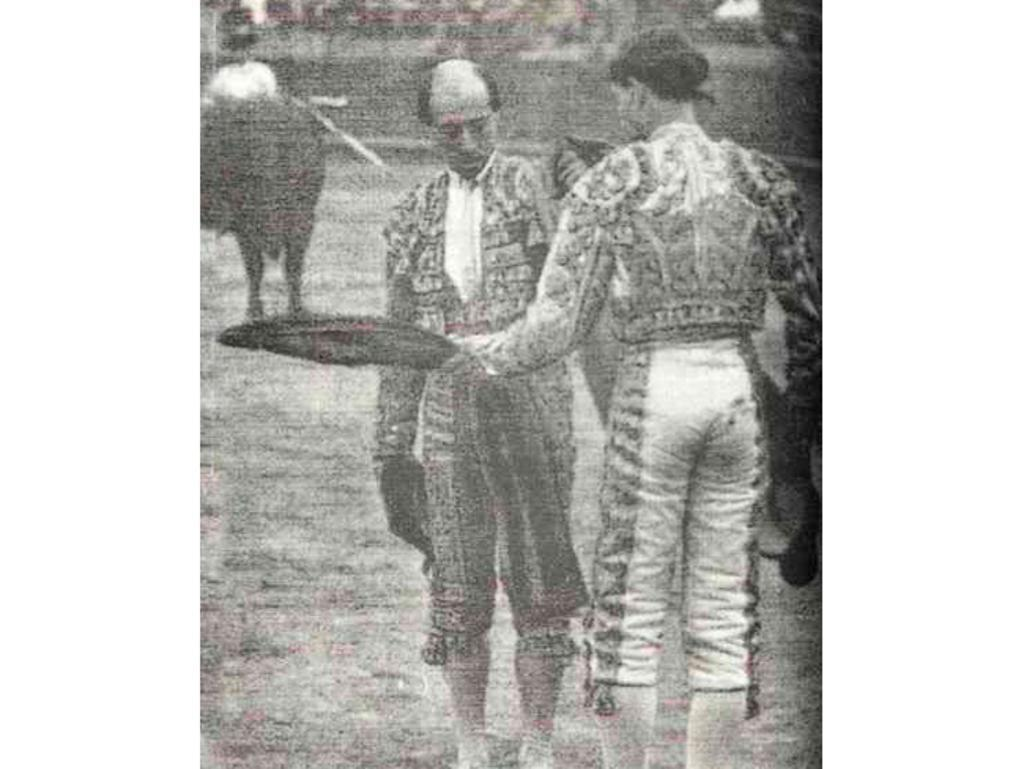face: (439, 91, 499, 175)
